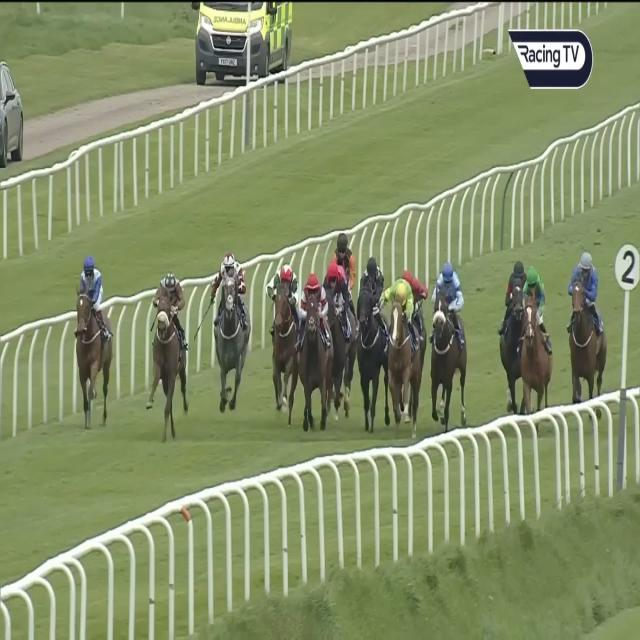horses-racing: (73, 256, 112, 431), (209, 250, 250, 408), (430, 255, 466, 413), (267, 259, 301, 416), (566, 249, 605, 384), (151, 273, 182, 434), (385, 272, 415, 424), (298, 273, 329, 419), (521, 266, 553, 404), (323, 259, 354, 396), (359, 255, 384, 422), (504, 252, 525, 404), (406, 262, 428, 352), (337, 228, 357, 288)
